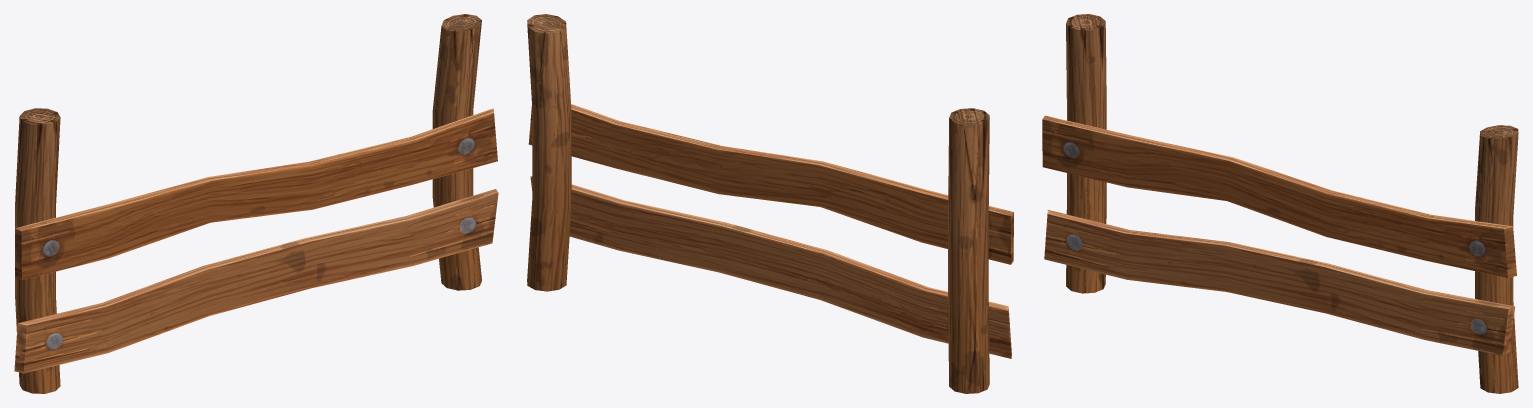
File: Fences03_3.FBX
The picture shows the model from 3 angles, left to right: view 1: azimuth 30°, elevation 25°; view 2: azimuth 150°, elevation 25°; view 3: azimuth 330°, elevation 25°; orthographic projection. The views are drawn at different scales.
Visible parts, largest first — view 1: Fences03_3; view 2: Fences03_3; view 3: Fences03_3.
Boxes of the visible parts, x1,y1,x2,y2 form: Fences03_3: (14,14,498,393); Fences03_3: (527,14,1013,393); Fences03_3: (1042,14,1518,393).
Size of what is drawn, in the model's own units: 1.18 by 0.625 by 0.1083.
